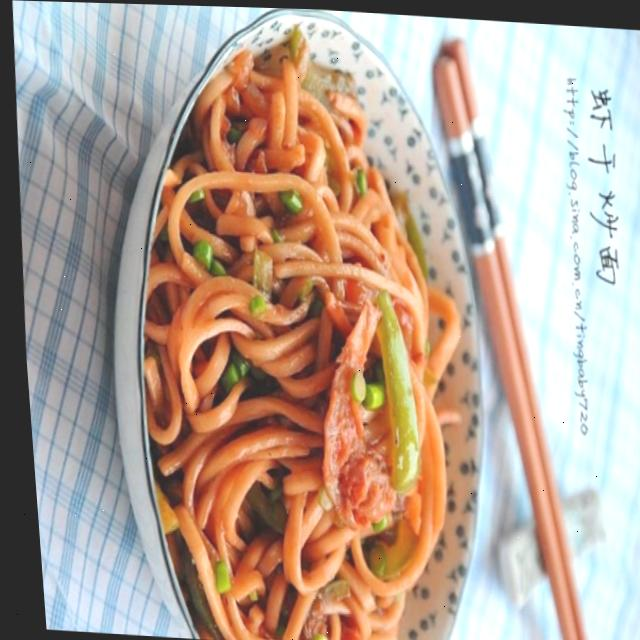面条主食: (88, 26, 503, 640)
